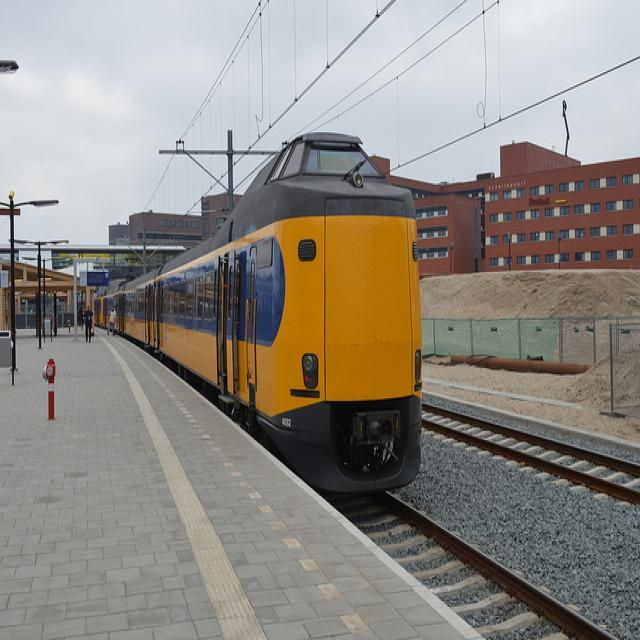fire_hydrant: (42, 356, 56, 419), (67, 318, 70, 332)
